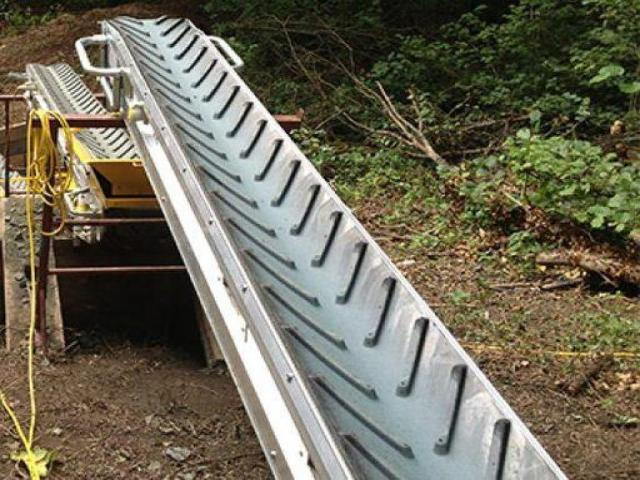conveyor: (73, 12, 596, 479)
